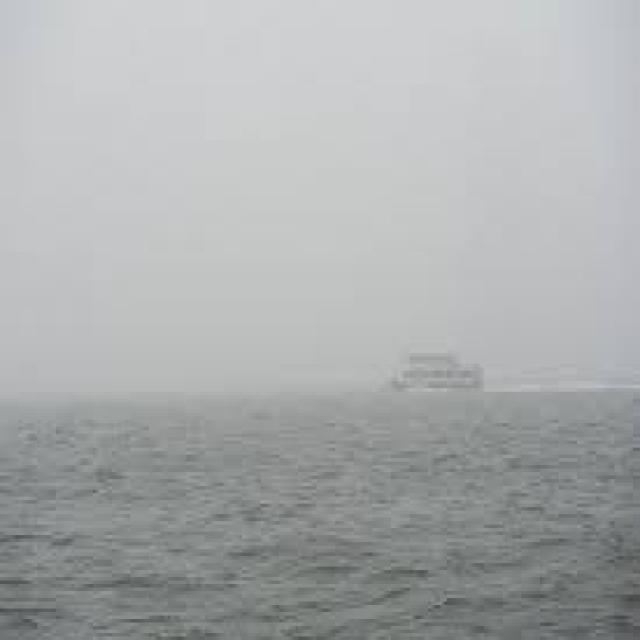passenger ship: (391, 342, 496, 412)
